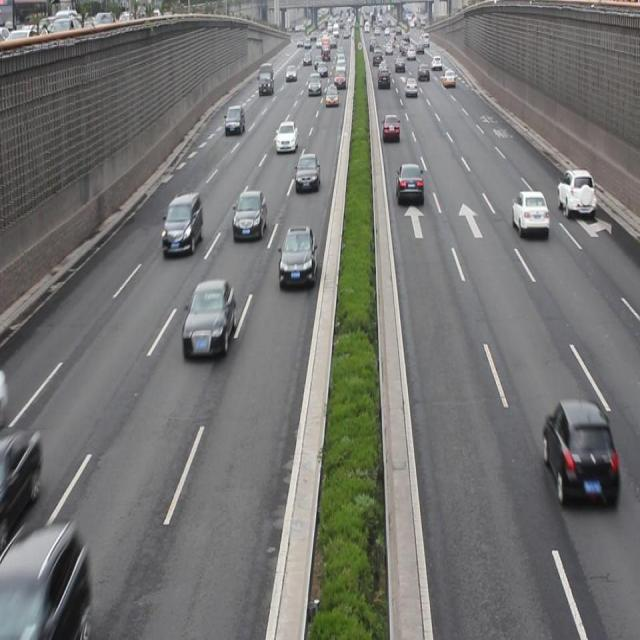car: (1, 520, 93, 640), (542, 396, 618, 507), (0, 422, 44, 544), (182, 278, 236, 357), (161, 190, 203, 252), (278, 226, 318, 287), (556, 166, 595, 218), (232, 187, 267, 243), (511, 188, 548, 238), (395, 160, 423, 206), (295, 152, 320, 193), (276, 120, 297, 153), (224, 104, 244, 137), (381, 112, 401, 144)
